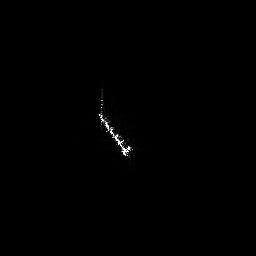ship: (96, 88, 138, 161)
